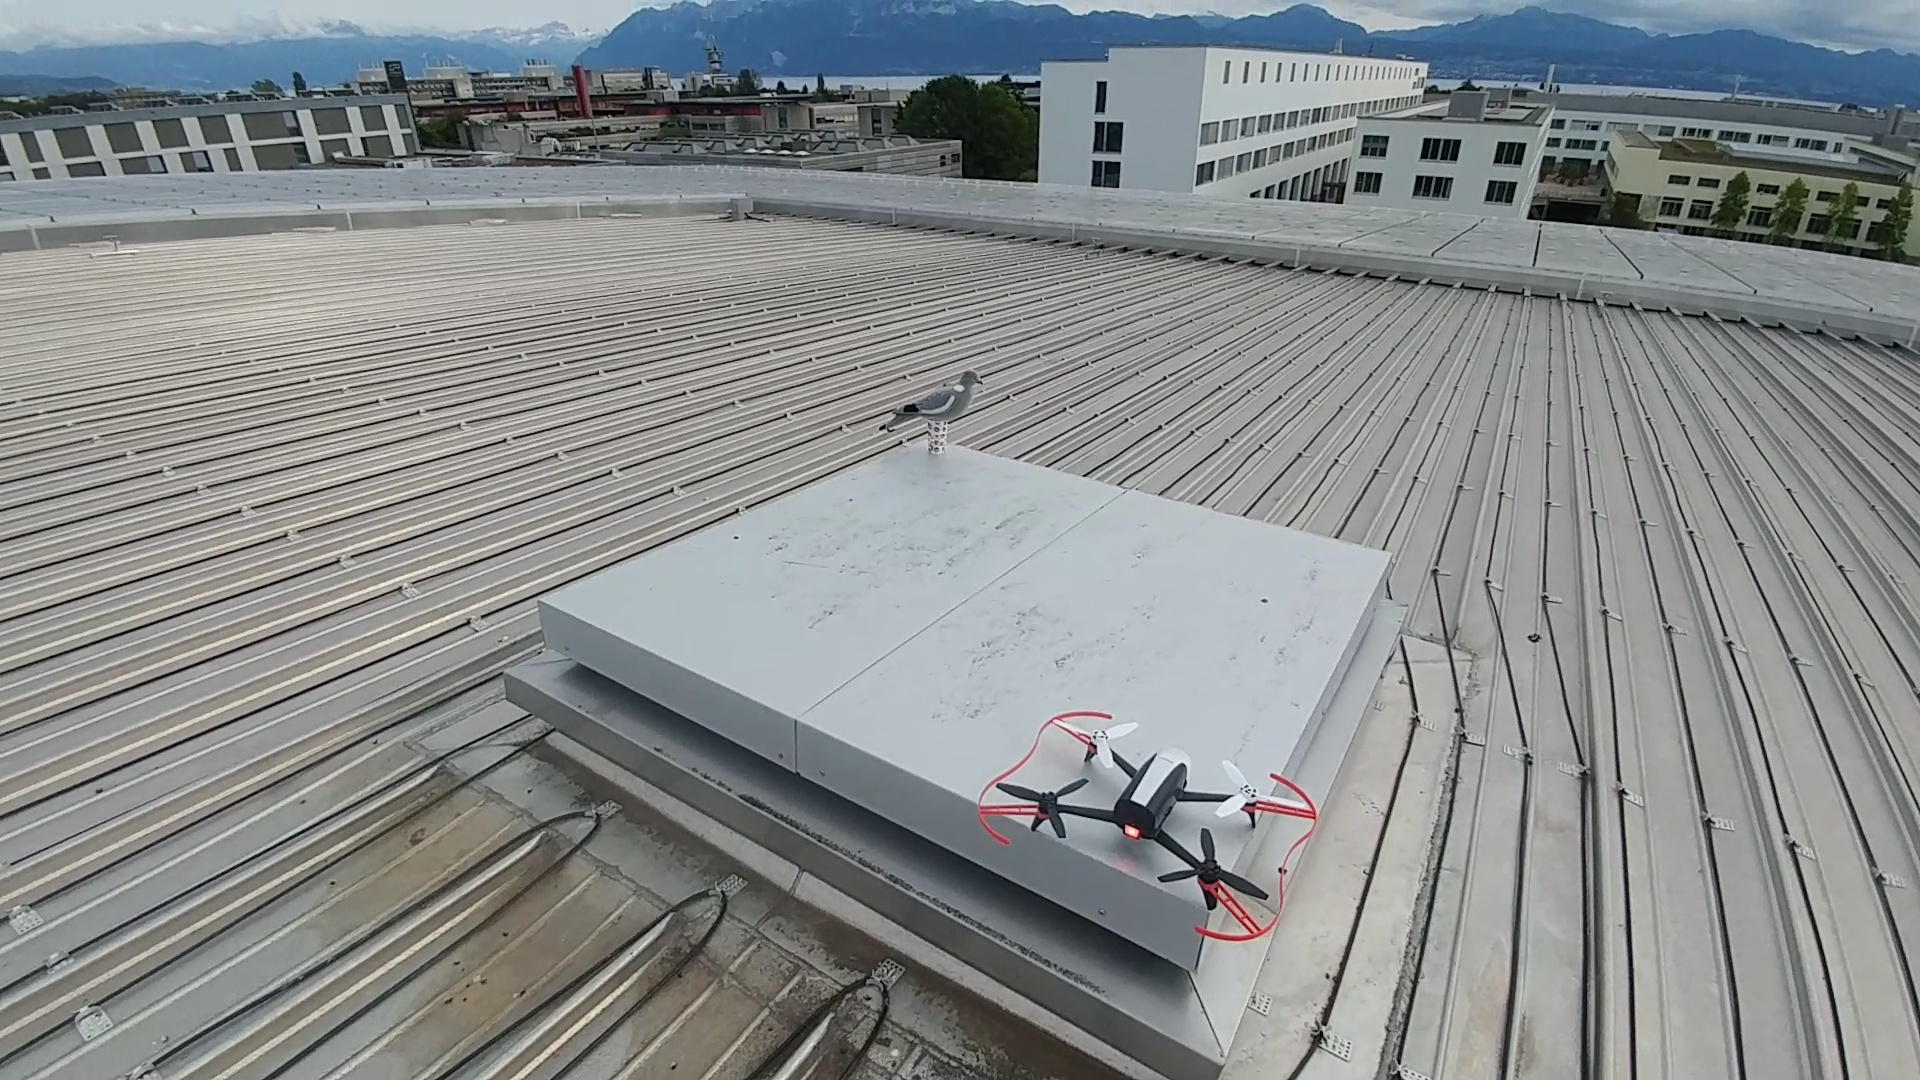Pigeon: (876, 367, 989, 426)
